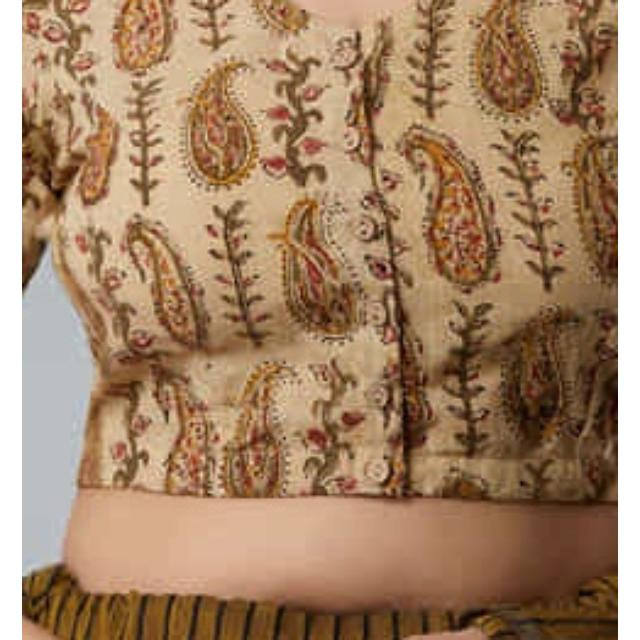cotton: (22, 0, 618, 486)
